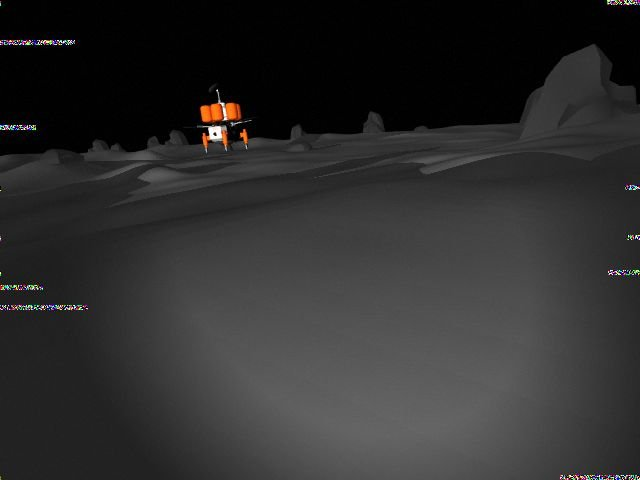homebase: (176, 81, 269, 153)
